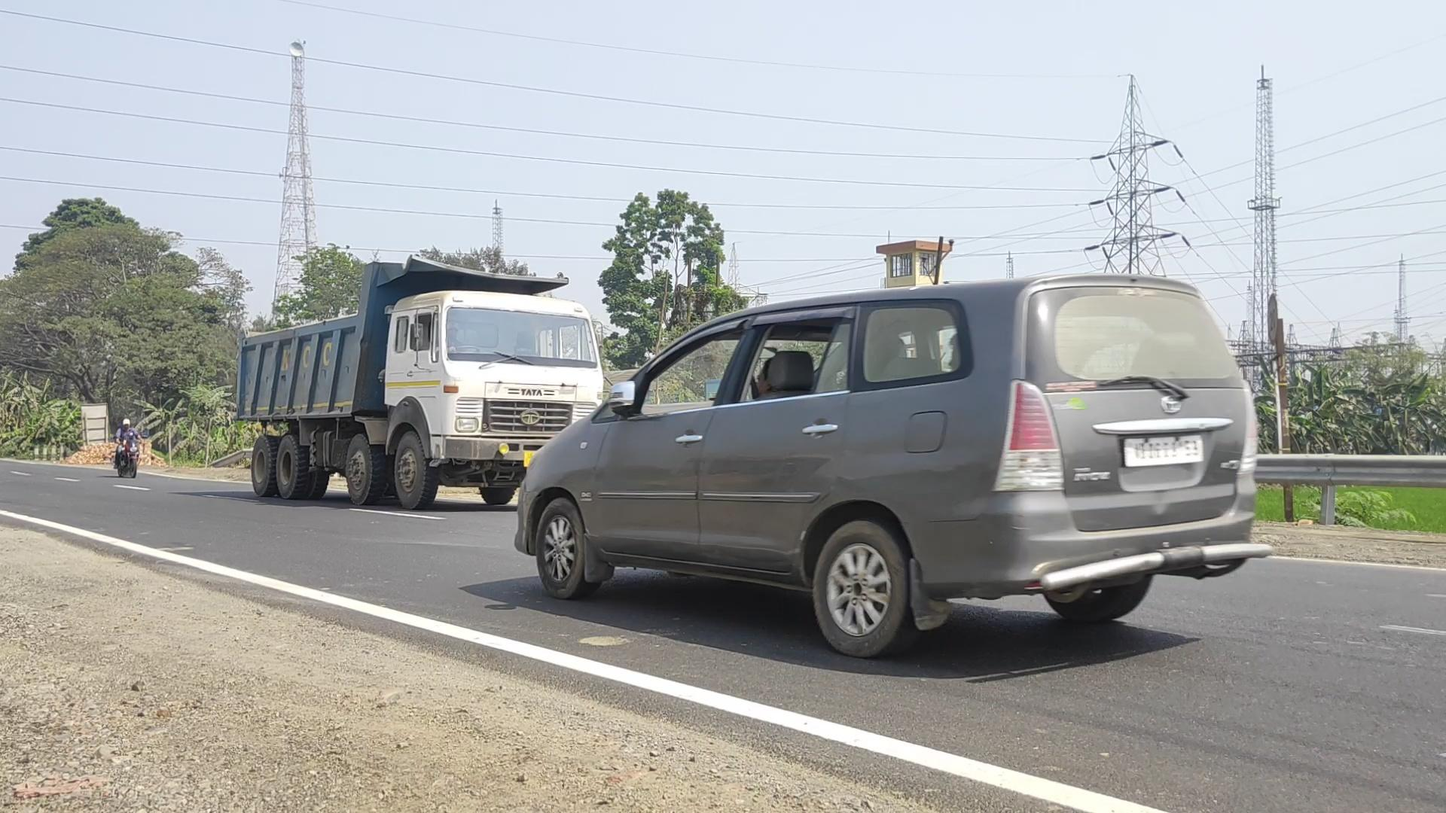bike: (114, 419, 147, 479)
car: (515, 273, 1273, 657)
truck: (237, 254, 606, 510)
